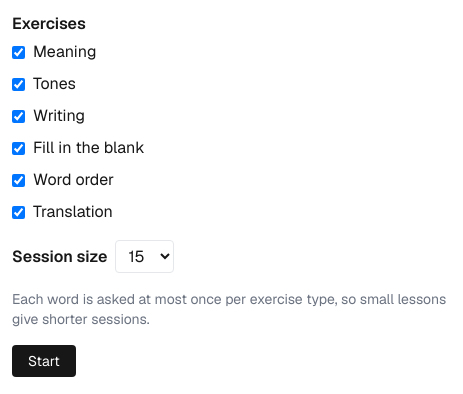
Test: PracticePlayer › needs at least one exercise type
The image size is (463, 394).
Step 1. Click the checkbox labelled "Meaning" → (18, 52), box [12,46,25,58]
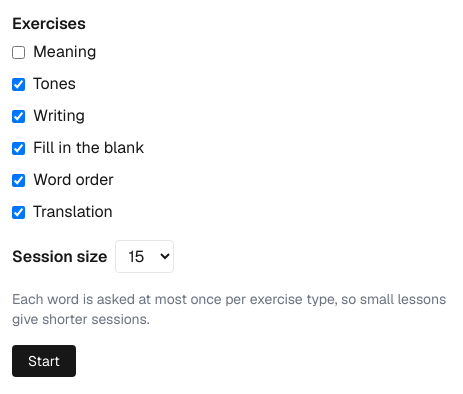
Step 2. Click the checkbox labelled "Tones" → (18, 84), box [12,78,25,90]
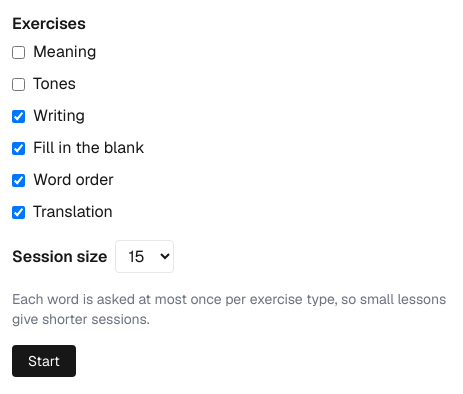
Step 3. Click the checkbox labelled "Writing" → (18, 116), box [12,110,25,122]
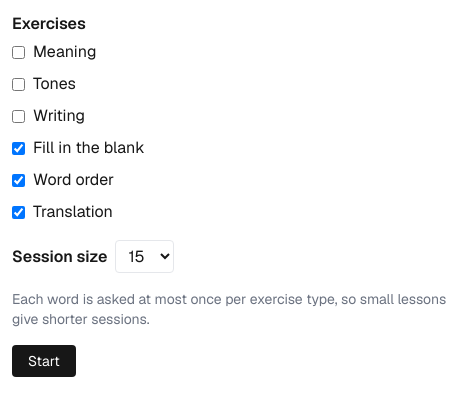
Step 4. Click the checkbox labelled "Fill in the blank" → (18, 148), box [12,142,25,154]
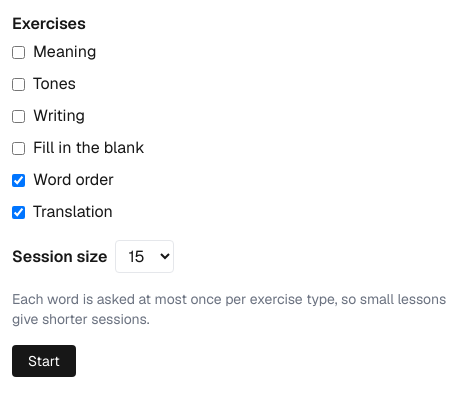
Step 5. Click the checkbox labelled "Word order" → (18, 180), box [12,174,25,186]
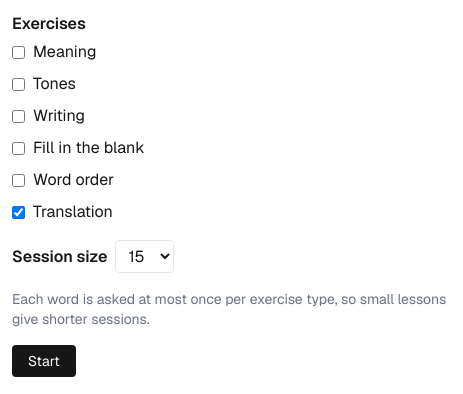
Step 6. Click the checkbox labelled "Translation" → (18, 212), box [12,206,25,218]
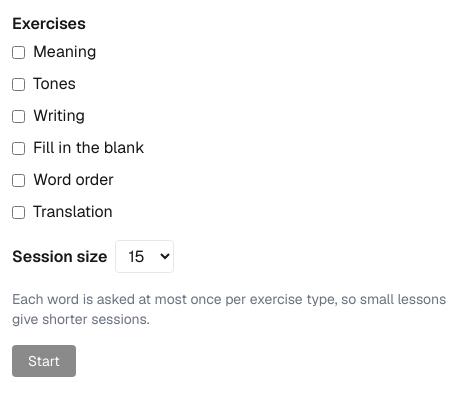
Now the button "Start" is disabled, box [12,345,76,377]
